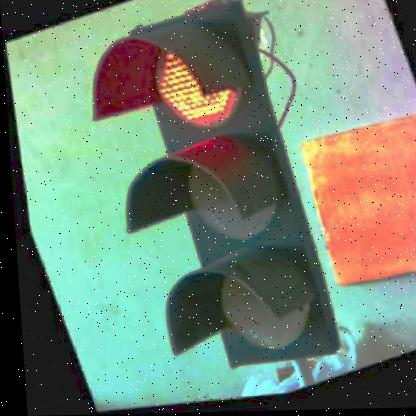Traffic Light -Red-: (56, 0, 362, 410)
